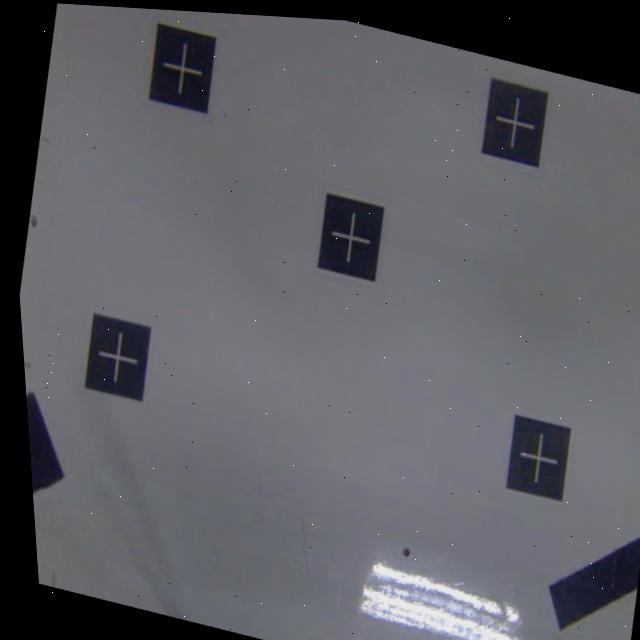dot: (310, 189, 390, 283), (144, 20, 221, 114), (79, 310, 154, 403), (500, 412, 576, 502), (476, 77, 551, 168)
